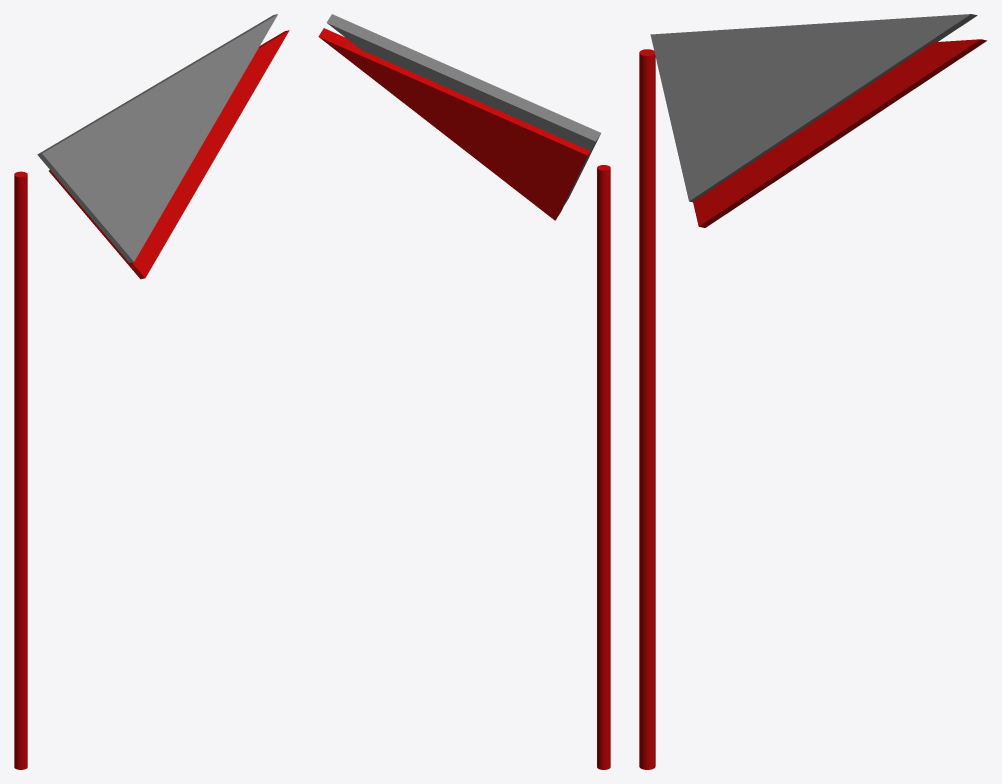
Rendered from flag.fbx.
3 views of the same model, side by side, from view 1: azimuth 30°, elevation 25°; view 2: azimuth 150°, elevation 25°; view 3: azimuth 330°, elevation 25° (orthographic). The views are drawn at different scales.
Parts seen in each view (by area): view 1: pPrism1, polySurface1; view 2: polySurface1, pPrism1; view 3: pPrism1, polySurface1.
Part boxes in pixels (x1,y1,x2,y2): pPrism1: (37,14,277,262); polySurface1: (14,30,289,769); polySurface1: (318,28,610,769); pPrism1: (326,14,600,206); pPrism1: (650,14,977,202); polySurface1: (639,39,986,769).
Bounding box in the file's own units: 23.67 × 55.53 × 7.63.
